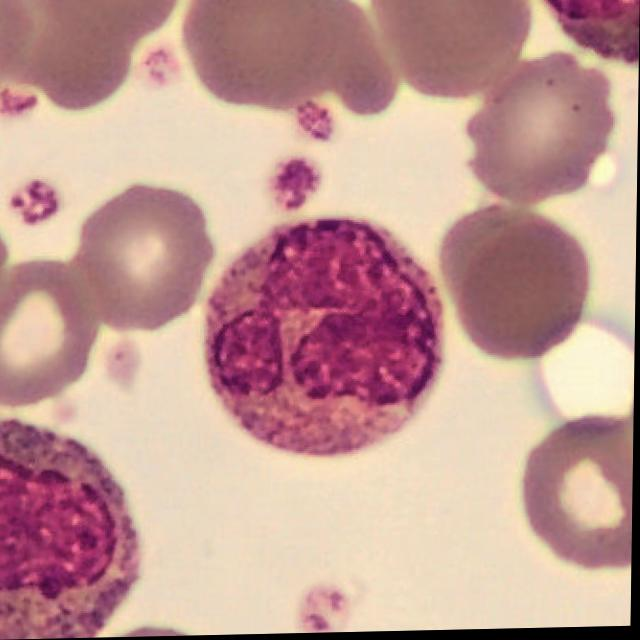Neutrofilo segmentado: (208, 226, 443, 456)
